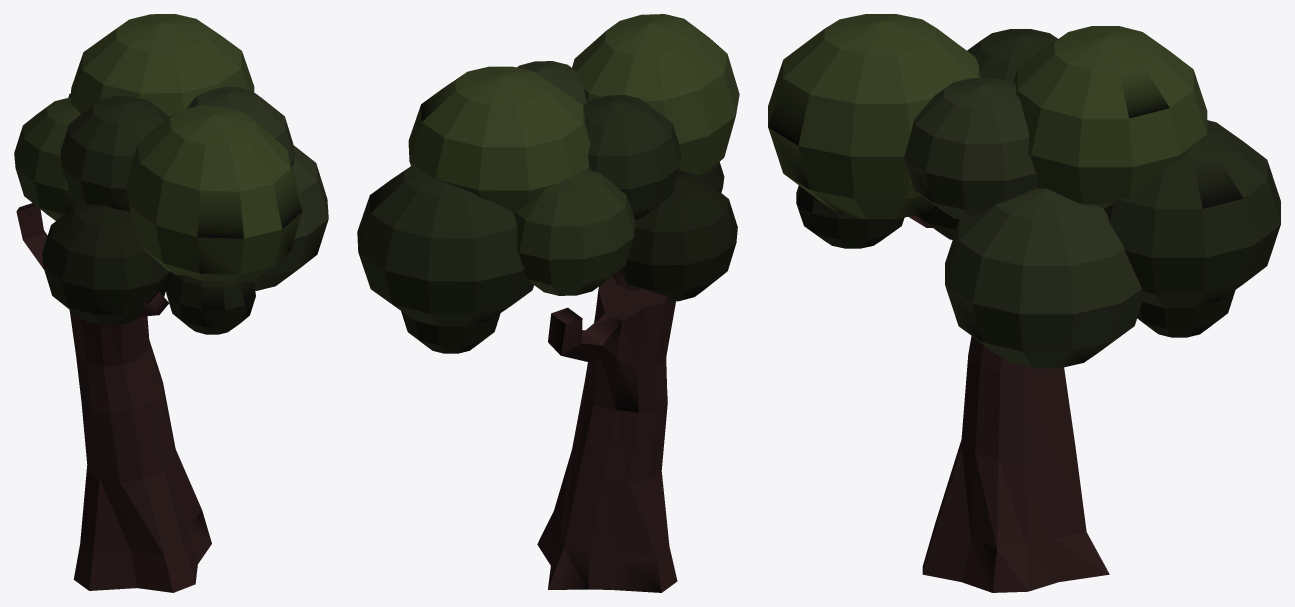
Rendered from oak_lean.gltf.
The picture shows the model from 3 angles, left to right: view 1: azimuth 30°, elevation 25°; view 2: azimuth 150°, elevation 25°; view 3: azimuth 270°, elevation 25°; orthographic projection. The views are drawn at different scales.
Parts seen in each view (by area): view 1: OakLean; view 2: OakLean; view 3: OakLean.
Part boxes in pixels (<box>): OakLean: <box>14,14,328,592</box>; OakLean: <box>357,14,739,592</box>; OakLean: <box>768,14,1280,592</box>.
Bounding box in the file's own units: 1.86 × 3.05 × 2.46.
1 material, 1 textured.
